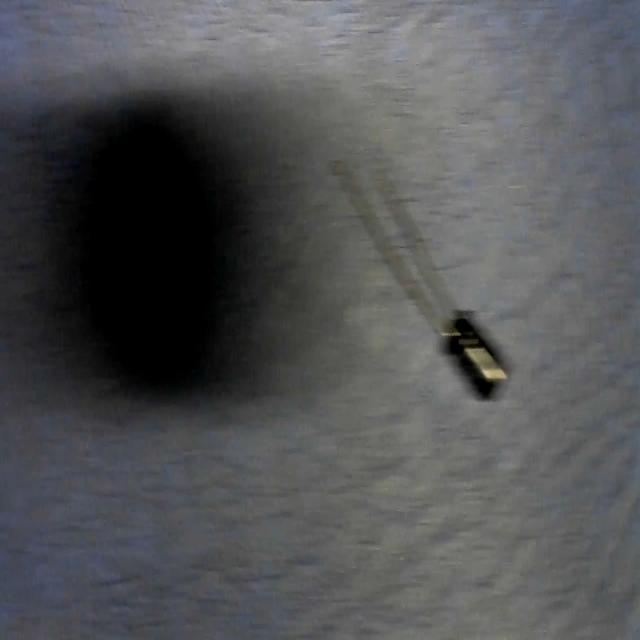capacitor: (342, 168, 506, 407)
